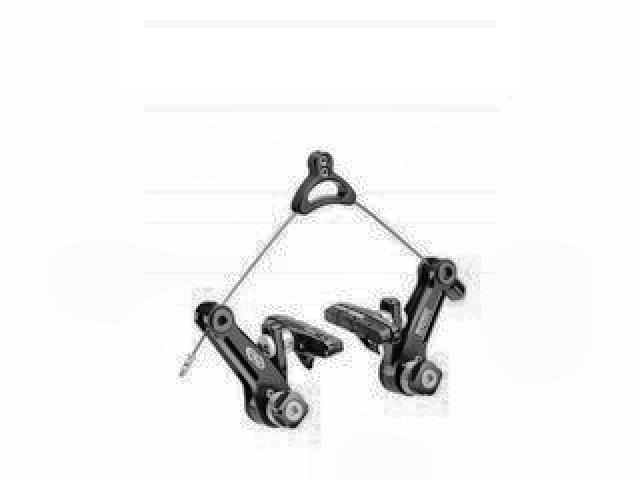rim_brake: (179, 150, 467, 432)
